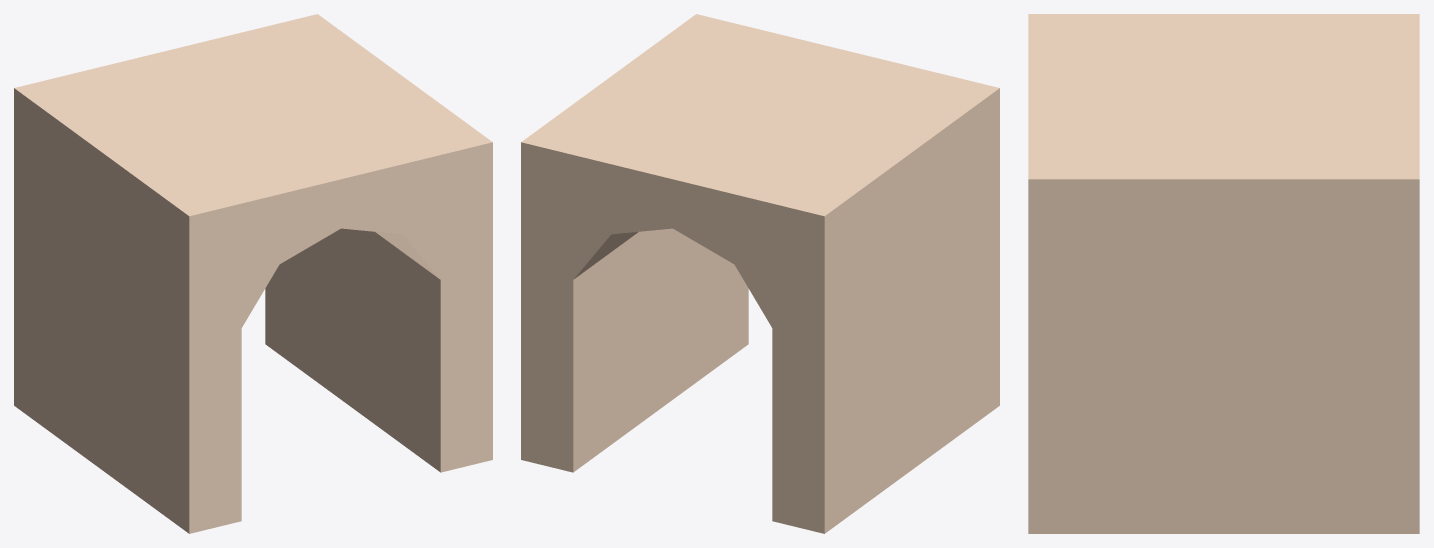
The model's file is Abstract_Castle_Block_Single_Arch_Cream_01.fbx.
3 renders of one model, left to right at view 1: azimuth 30°, elevation 25°; view 2: azimuth 150°, elevation 25°; view 3: azimuth 270°, elevation 25°, orthographic. The views are drawn at different scales.
Parts seen in each view (by area): view 1: Model; view 2: Model; view 3: Model.
Part boxes in pixels (bbox=[...]): Model: bbox=[14, 14, 492, 533]; Model: bbox=[521, 14, 999, 533]; Model: bbox=[1028, 14, 1419, 533].
Size of the model in its own units: 1000 by 1000 by 1000.
